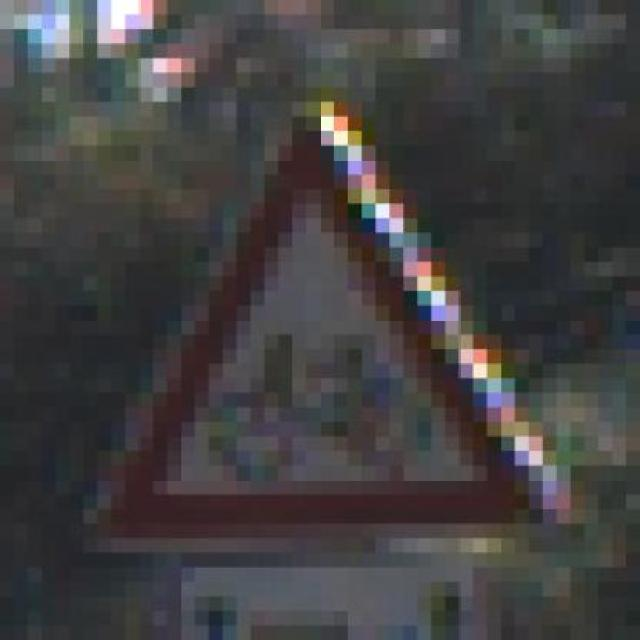CYCLE ROUTE AHEAD WARNING: (69, 102, 571, 552)
